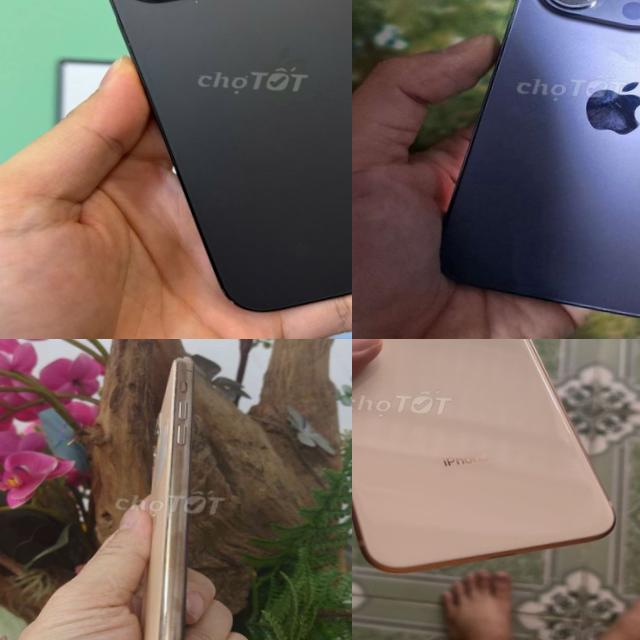gen_11: (125, 354, 211, 640)
gen_14: (51, 0, 352, 327), (430, 0, 640, 339)
gen_7_8: (352, 339, 636, 587)
